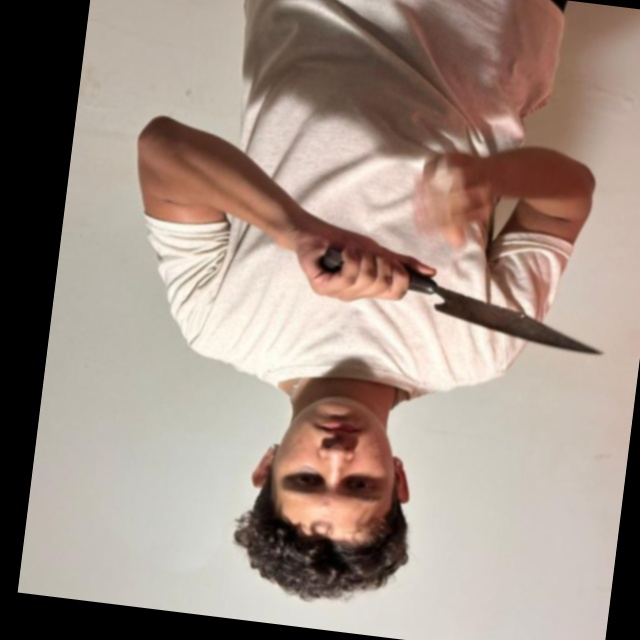Sharp-Object: (431, 287, 607, 358)
